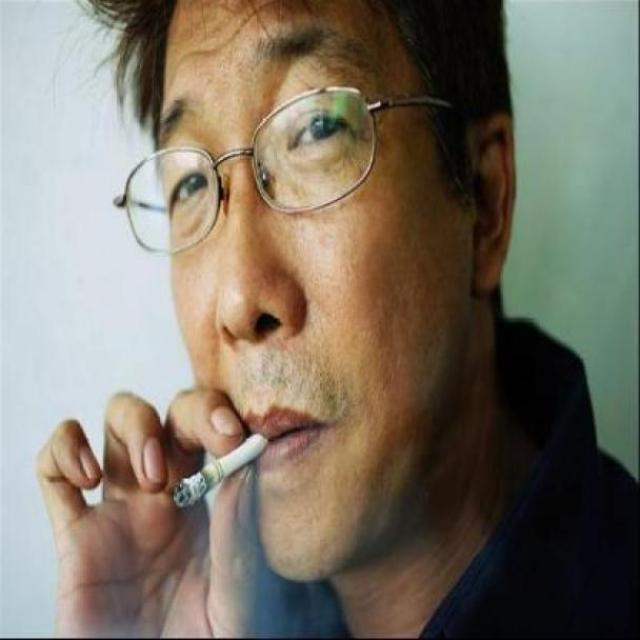rokok: (170, 431, 274, 507)
